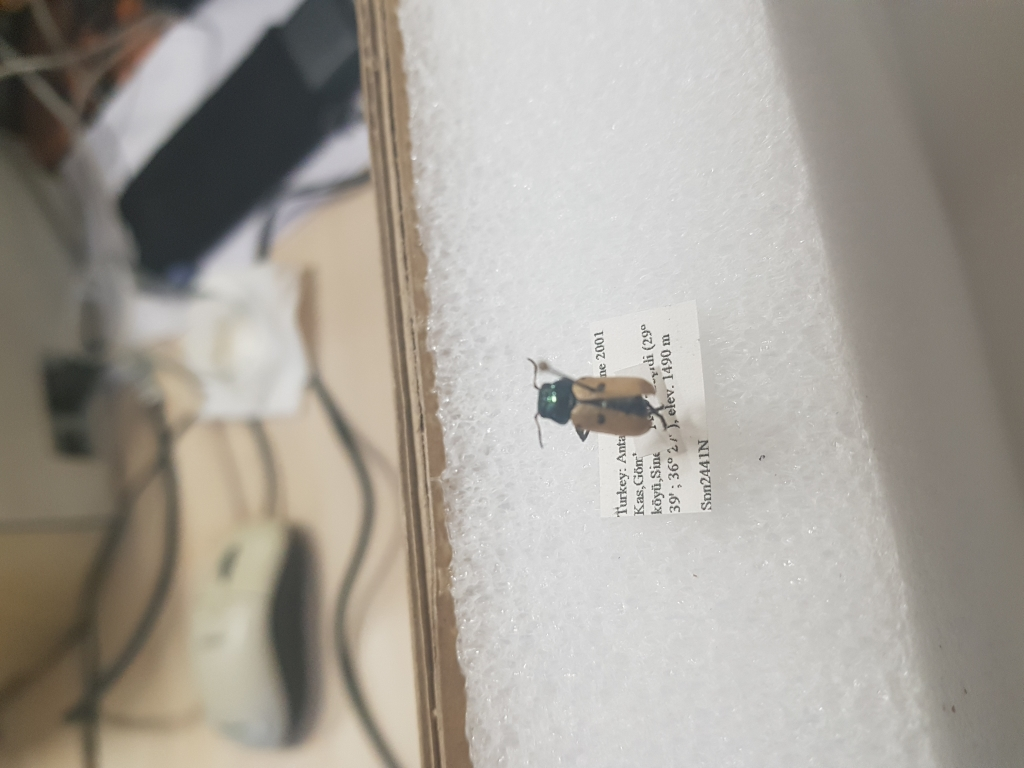Labidostomis_maculipennis: (526, 357, 677, 448)
